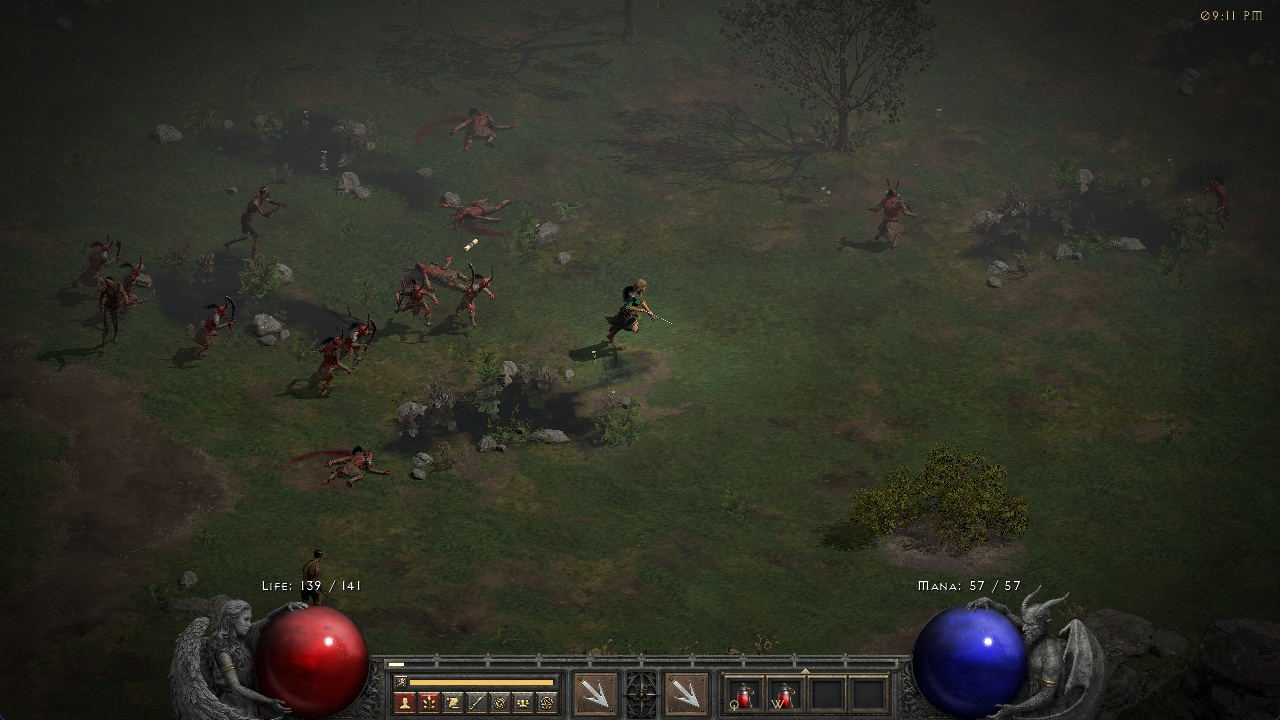fallen: (864, 179, 917, 252), (449, 258, 501, 325), (191, 292, 242, 357), (393, 274, 438, 325), (345, 311, 383, 364), (72, 236, 122, 276), (125, 254, 155, 315), (313, 339, 346, 394)
